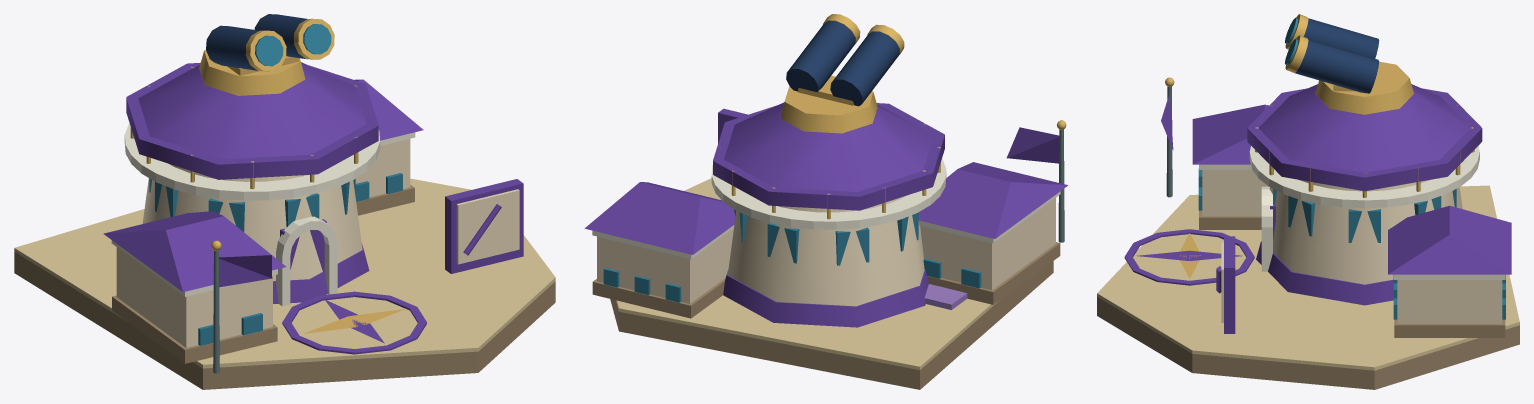
The model's file is scout-center-lv3.glb.
3 views of the same model, side by side, from view 1: azimuth 30°, elevation 25°; view 2: azimuth 150°, elevation 25°; view 3: azimuth 270°, elevation 25° (orthographic). The views are drawn at different scales.
Parts seen in each view (by area): view 1: foundation_sand, faceted_roof_violet, foundation_stoneDark, octagonal_office_cream, archive_wing_cream, observation_eave_violet, archive_wing_roof_violet, observation_balcony_white, map_board_cream, compass_violet, roof_binoculars_naval, archive_wing_stoneDark (+17 smaller); view 2: octagonal_office_cream, faceted_roof_violet, foundation_sand, foundation_stoneDark, analysis_wing_roof_violet, archive_wing_roof_violet, observation_eave_violet, archive_wing_cream, roof_binoculars_naval, analysis_wing_cream, office_plinth_violet, observation_balcony_white (+13 smaller); view 3: foundation_sand, faceted_roof_violet, octagonal_office_cream, foundation_stoneDark, analysis_wing_roof_violet, observation_eave_violet, analysis_wing_cream, observation_balcony_white, roof_binoculars_naval, archive_wing_roof_violet, office_plinth_violet, optic_pedestal_gold (+13 smaller).
Boxes of the visible parts, x1=… form: foundation_sand: x1=14, y1=178, x2=555, y2=368; faceted_roof_violet: x1=138, y1=62, x2=366, y2=159; foundation_stoneDark: x1=14, y1=252, x2=555, y2=389; octagonal_office_cream: x1=142, y1=164, x2=362, y2=281; archive_wing_cream: x1=116, y1=247, x2=272, y2=347; observation_eave_violet: x1=126, y1=62, x2=378, y2=179; archive_wing_roof_violet: x1=103, y1=211, x2=286, y2=292; observation_balcony_white: x1=124, y1=123, x2=380, y2=200; map_board_cream: x1=456, y1=189, x2=519, y2=264; compass_violet: x1=282, y1=291, x2=426, y2=354; roof_binoculars_naval: x1=206, y1=14, x2=306, y2=70; archive_wing_stoneDark: x1=112, y1=295, x2=277, y2=363; octagonal_office_cream: x1=727, y1=196, x2=924, y2=306; faceted_roof_violet: x1=724, y1=102, x2=933, y2=191; foundation_sand: x1=616, y1=178, x2=999, y2=370; foundation_stoneDark: x1=610, y1=261, x2=1053, y2=389; analysis_wing_roof_violet: x1=584, y1=182, x2=735, y2=254; archive_wing_roof_violet: x1=918, y1=162, x2=1067, y2=238; observation_eave_violet: x1=713, y1=103, x2=944, y2=210; archive_wing_cream: x1=920, y1=198, x2=1055, y2=290; roof_binoculars_naval: x1=786, y1=21, x2=899, y2=106; analysis_wing_cream: x1=597, y1=228, x2=733, y2=303; office_plinth_violet: x1=723, y1=270, x2=928, y2=327; observation_balcony_white: x1=711, y1=159, x2=946, y2=229; foundation_sand: x1=1097, y1=185, x2=1519, y2=370; faceted_roof_violet: x1=1259, y1=84, x2=1470, y2=172; octagonal_office_cream: x1=1269, y1=179, x2=1462, y2=284; foundation_stoneDark: x1=1097, y1=297, x2=1519, y2=389; analysis_wing_roof_violet: x1=1388, y1=205, x2=1511, y2=274; observation_eave_violet: x1=1247, y1=88, x2=1482, y2=191; analysis_wing_cream: x1=1397, y1=280, x2=1502, y2=323; observation_balcony_white: x1=1249, y1=146, x2=1479, y2=208; roof_binoculars_naval: x1=1295, y1=18, x2=1379, y2=93; archive_wing_roof_violet: x1=1192, y1=104, x2=1268, y2=164; office_plinth_violet: x1=1256, y1=241, x2=1393, y2=305; optic_pedestal_gold: x1=1315, y1=61, x2=1413, y2=114.
Bounding box in the file's own units: 1 × 0.6559 × 0.9826.
